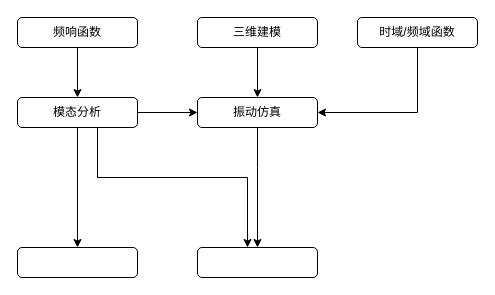
This 495x295 diagram has some shape labels left out. Each missing label, with the box of its shape:
函数综合: (16, 246, 138, 278)
模态置信准则: (196, 246, 318, 278)
